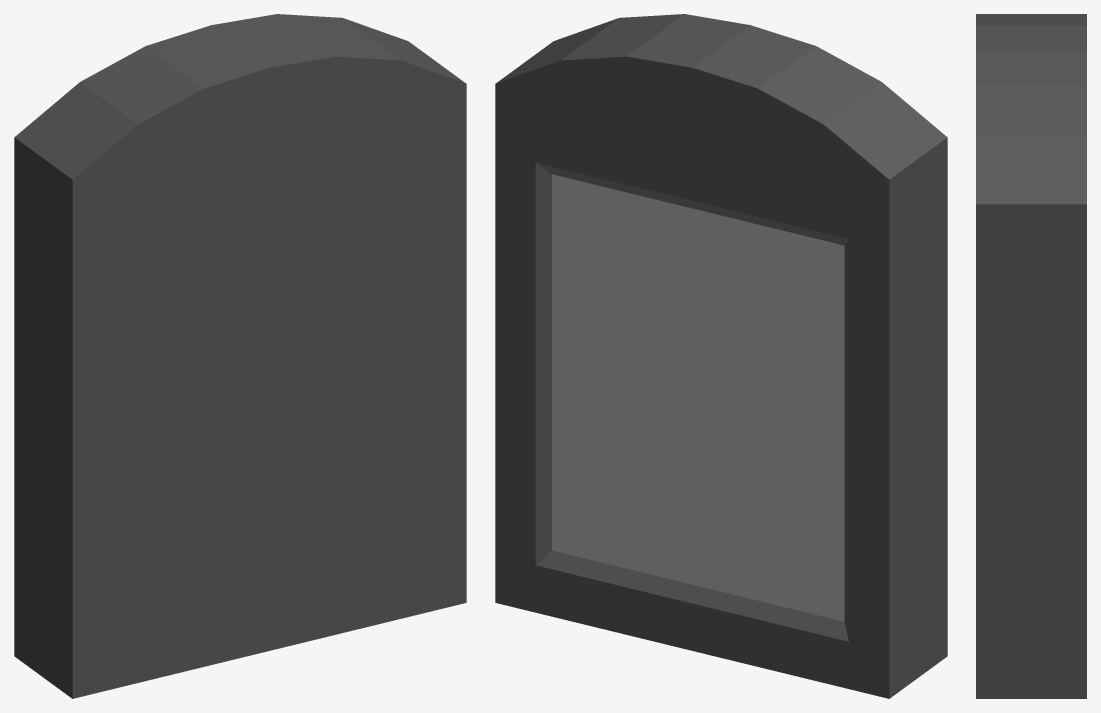
File: Tombstone1.fbx
The picture shows the model from 3 angles, left to right: view 1: azimuth 30°, elevation 25°; view 2: azimuth 150°, elevation 25°; view 3: azimuth 270°, elevation 25°; orthographic projection. The views are drawn at different scales.
Visible parts, largest first — view 1: Tombstone1; view 2: Tombstone1; view 3: Tombstone1.
Boxes of the visible parts, bbox=[...] form: Tombstone1: bbox=[14, 14, 466, 698]; Tombstone1: bbox=[495, 14, 947, 698]; Tombstone1: bbox=[976, 14, 1086, 698].
Size of the model in its own units: 93.41 by 132 by 23.89.
